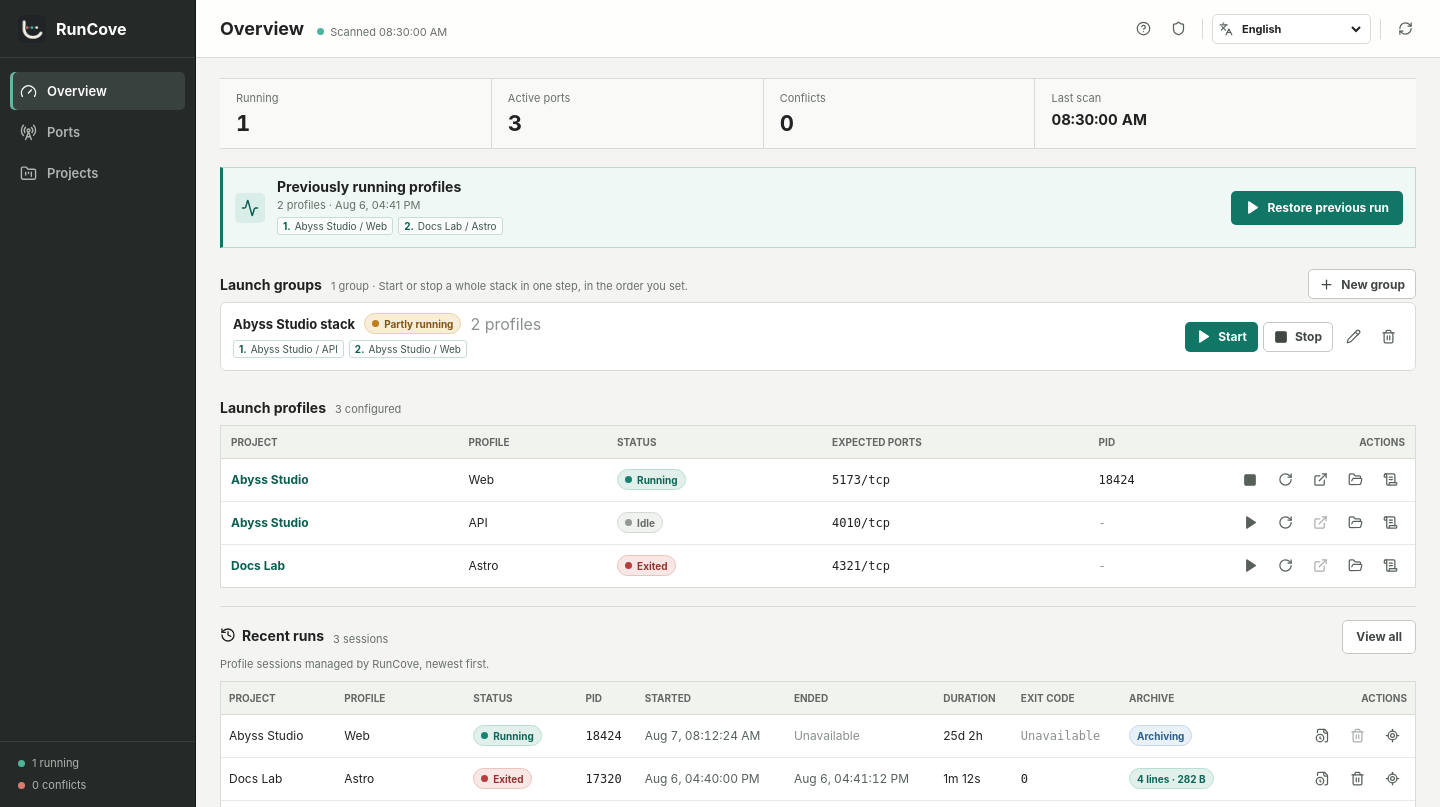
RunCove launch groups › names the member a whole-group start stopped at
expect the heading "Launch groups" is shown: met, box [220,276,322,292]
Click the button with aria-label "Start Abyss Studio stack" at [1222, 336], box [1185,322,1258,352]
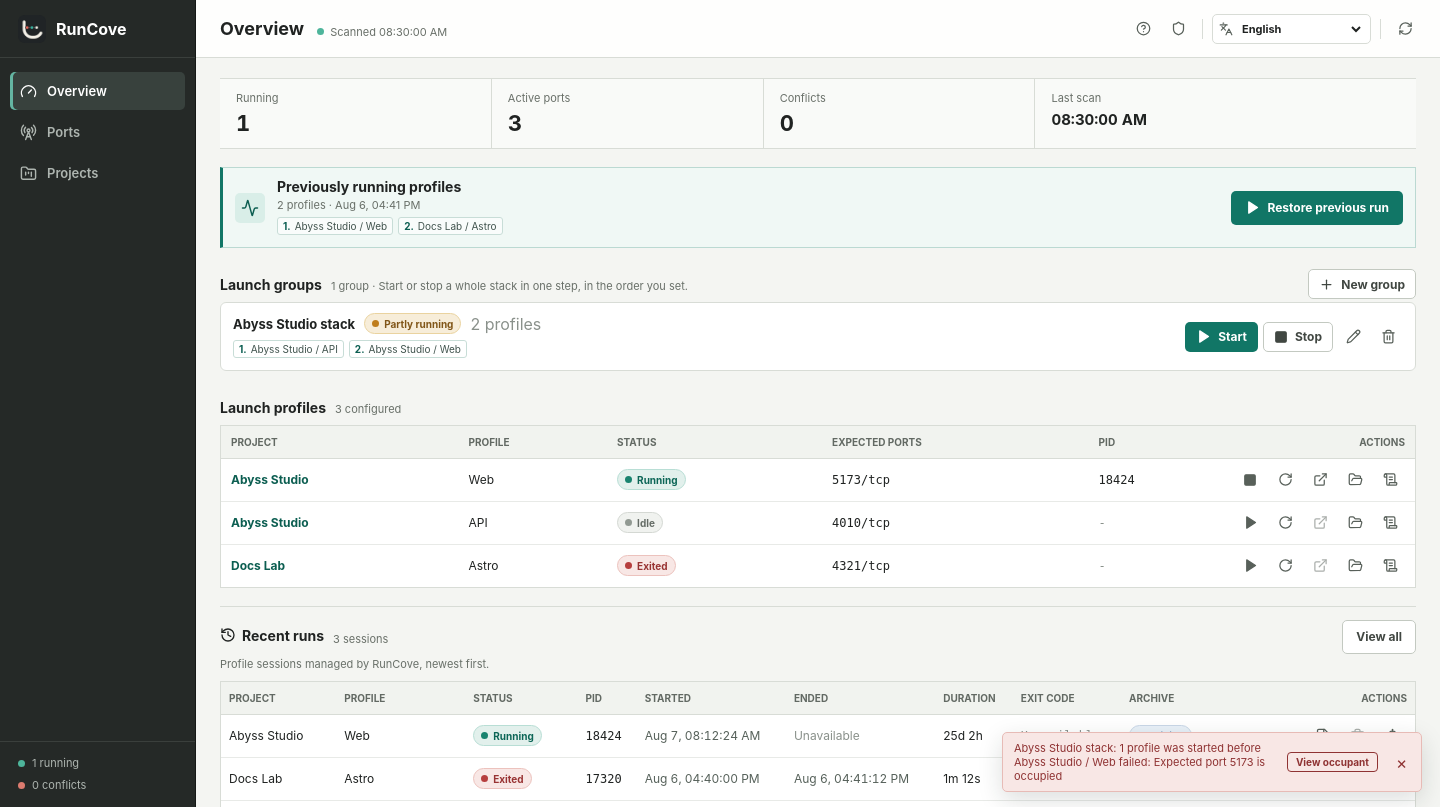
expect the message shows "Abyss Studio stack: 1 profile was started before Abyss Studio / Web failed: Expected port 5173 is occupied": met, box [1014,741,1265,783]
expect the button "View occupant" is shown: met, box [1287,752,1378,772]
